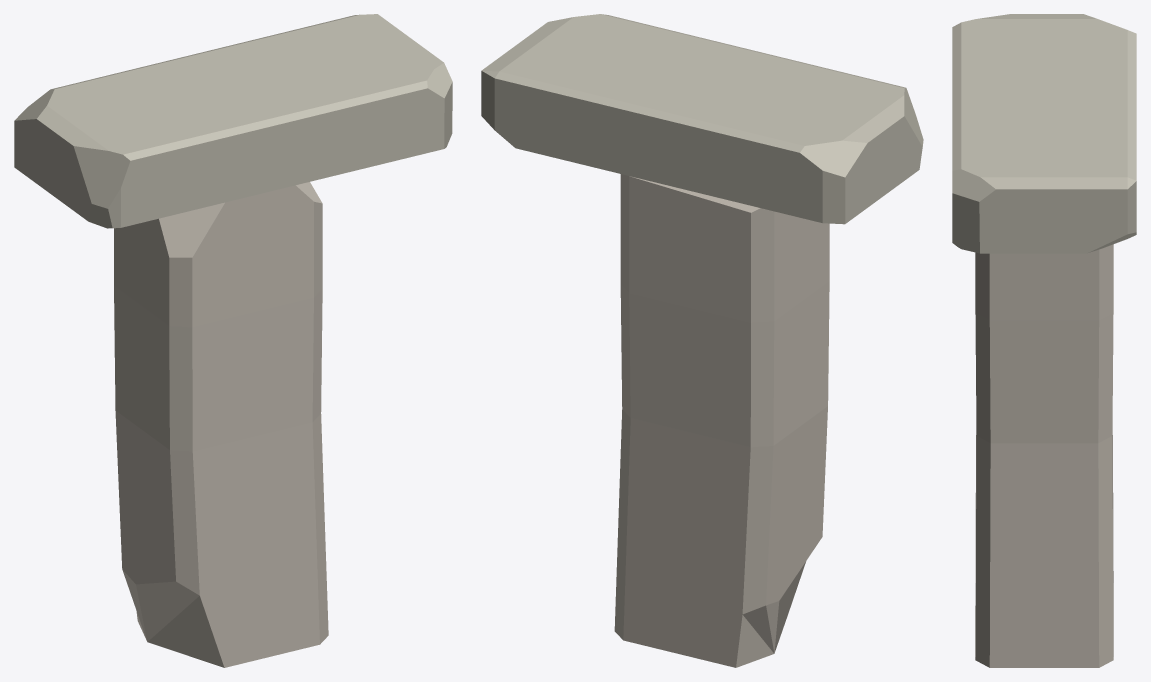
Rendered from Stonehenge_03 2.fbx.
The picture shows the model from 3 angles, left to right: view 1: azimuth 30°, elevation 25°; view 2: azimuth 150°, elevation 25°; view 3: azimuth 270°, elevation 25°; orthographic projection.
Visible parts, largest first — view 1: Stonehenge_03; view 2: Stonehenge_03; view 3: Stonehenge_03.
Part boxes in pixels (x1,y1,x2,y2): Stonehenge_03: (14,14,452,667); Stonehenge_03: (481,14,923,667); Stonehenge_03: (952,14,1136,667).
Bounding box in the file's own units: 450 × 645 × 200.
